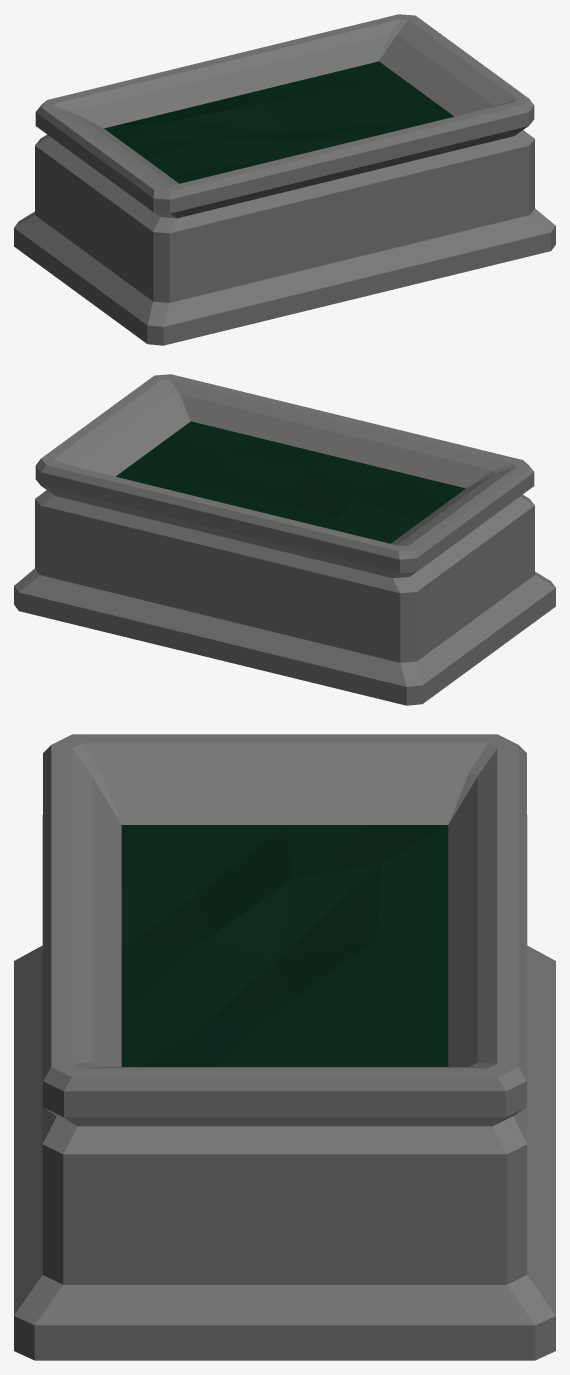
The model's file is PlantsPot03.fbx.
3 views of the same model, one above another, from view 1: azimuth 30°, elevation 25°; view 2: azimuth 150°, elevation 25°; view 3: azimuth 270°, elevation 25° (orthographic). The views are drawn at different scales.
Parts seen in each view (by area): view 1: PlantsPot03; view 2: PlantsPot03; view 3: PlantsPot03.
Part boxes in pixels (bbox=[...]): PlantsPot03: bbox=[14, 14, 555, 345]; PlantsPot03: bbox=[14, 374, 555, 705]; PlantsPot03: bbox=[14, 734, 555, 1360].
Bounding box in the file's own units: 206 × 68.92 × 126.
